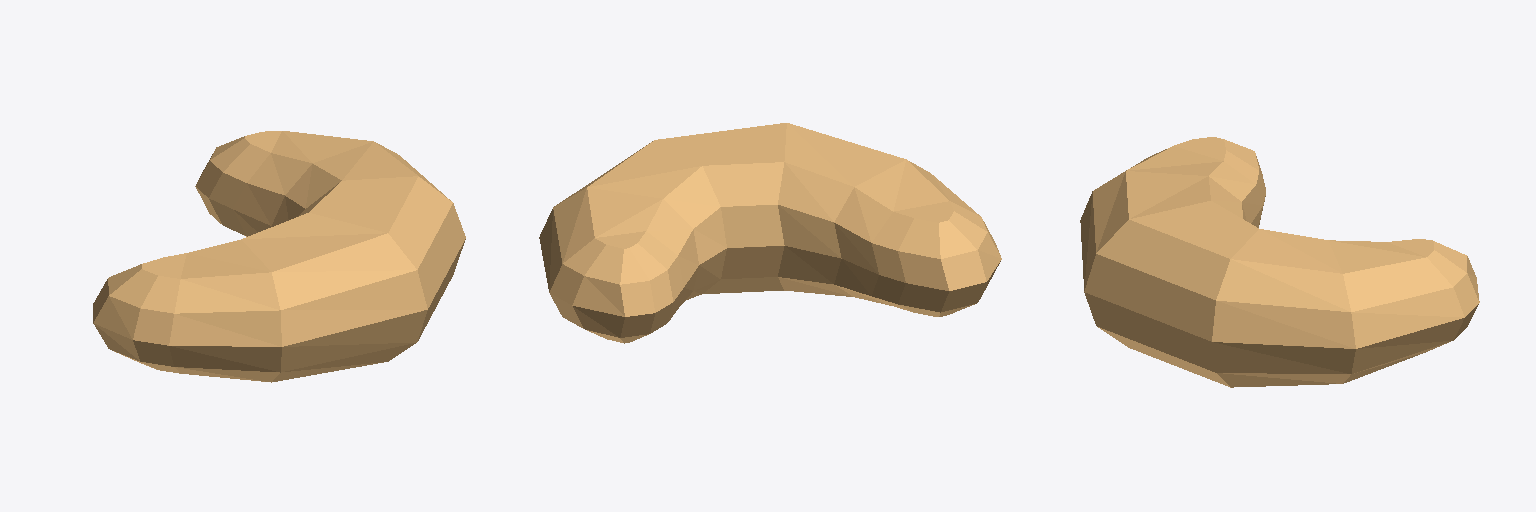
The picture shows the model from 3 angles: view 1: azimuth 30°, elevation 25°; view 2: azimuth 150°, elevation 25°; view 3: azimuth 270°, elevation 25°; orthographic projection.
Parts seen in each view (by area): view 1: Cashew; view 2: Cashew; view 3: Cashew.
Boxes of the visible parts, <box> form: Cashew: <box>93,131,465,382</box>; Cashew: <box>539,123,1001,343</box>; Cashew: <box>1080,137,1479,387</box>.
Bounding box in the file's own units: 87.9 × 28.28 × 79.66.
1 materials, 1 textured.